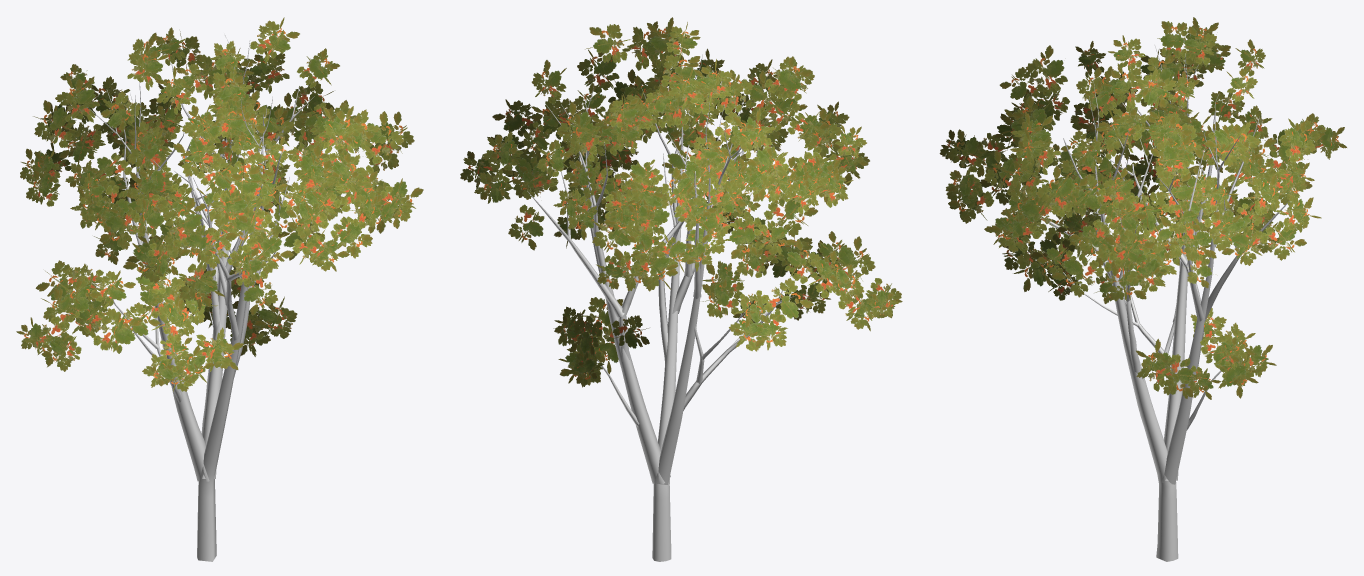
File: tree02.fbx
3 views of the same model, side by side, from view 1: azimuth 30°, elevation 25°; view 2: azimuth 150°, elevation 25°; view 3: azimuth 270°, elevation 25° (orthographic). The views are drawn at different scales.
Parts seen in each view (by area): view 1: foliage01, trunk02; view 2: foliage01, trunk02; view 3: foliage01, trunk02.
Part boxes in pixels (x1,y1,x2,y2): foliage01: (16, 17, 423, 391); trunk02: (87, 33, 314, 561); foliage01: (460, 17, 902, 387); trunk02: (527, 54, 796, 561); foliage01: (939, 17, 1346, 399); trunk02: (1041, 44, 1289, 561).
Size of the model in its own units: 6.76 by 8.51 by 6.13.
